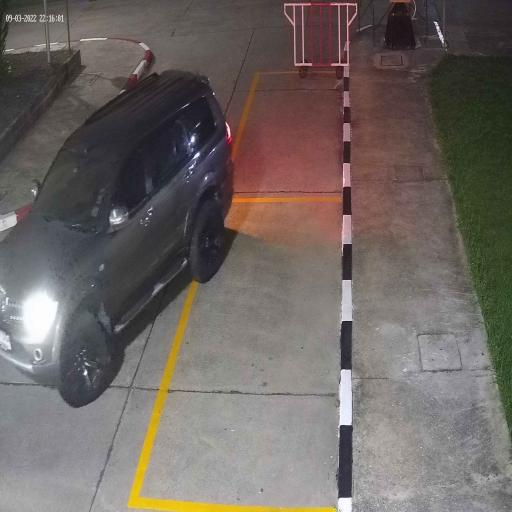car: (0, 66, 235, 408)
